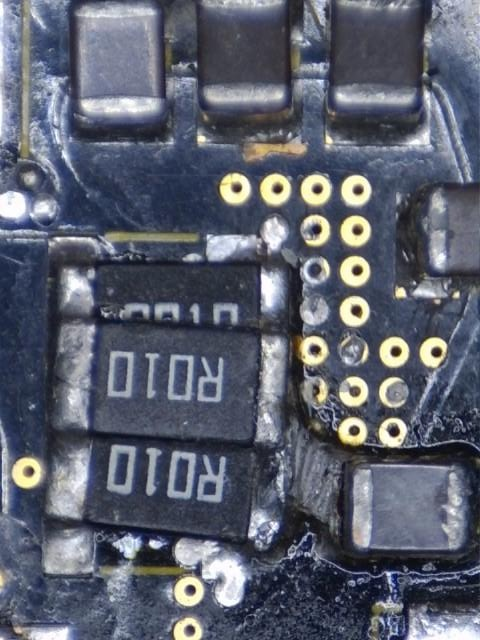pcb_defect: (41, 230, 293, 579), (174, 213, 375, 608), (41, 235, 99, 575)
